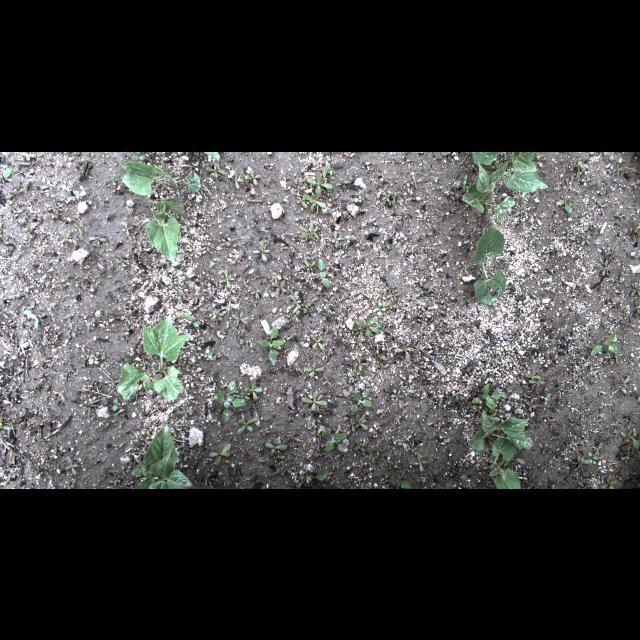crop: (116, 316, 192, 399), (134, 424, 194, 488), (461, 158, 515, 222), (472, 152, 548, 192), (472, 224, 508, 306), (120, 160, 200, 196), (145, 195, 187, 261), (466, 412, 532, 450), (482, 429, 520, 488), (202, 151, 220, 161)
weed: (215, 378, 248, 422), (256, 326, 286, 366), (471, 382, 507, 410), (320, 424, 348, 452), (352, 316, 381, 342), (590, 330, 620, 354), (294, 470, 328, 488), (300, 391, 328, 412), (208, 443, 232, 465), (244, 376, 264, 402), (306, 174, 332, 194), (353, 388, 373, 412), (302, 191, 326, 211), (570, 158, 590, 180), (393, 342, 415, 360), (318, 258, 330, 290), (387, 474, 413, 488), (304, 360, 324, 378), (236, 418, 258, 434), (348, 414, 368, 431), (254, 238, 268, 262), (412, 452, 428, 472), (230, 310, 250, 326), (205, 161, 225, 177), (264, 441, 288, 454), (569, 455, 591, 469), (310, 333, 326, 351), (24, 308, 38, 328), (132, 461, 152, 475), (230, 169, 243, 189), (246, 169, 264, 183), (66, 455, 78, 475), (222, 268, 234, 288), (273, 280, 289, 294), (557, 198, 571, 214), (620, 428, 636, 442), (176, 406, 194, 418), (528, 474, 542, 488), (390, 388, 404, 402), (210, 310, 224, 324), (184, 312, 198, 326), (620, 450, 634, 464), (323, 295, 335, 311), (122, 220, 134, 236), (386, 289, 402, 301), (631, 437, 639, 461), (7, 188, 26, 198), (143, 420, 153, 438), (600, 258, 610, 276), (89, 235, 107, 245), (332, 230, 342, 248), (67, 190, 85, 200), (310, 221, 320, 239), (396, 194, 414, 204), (524, 370, 542, 380), (597, 200, 609, 214), (290, 294, 302, 308), (374, 302, 386, 316), (192, 274, 208, 284), (320, 165, 328, 185), (410, 172, 420, 188), (354, 356, 364, 372), (613, 348, 623, 364), (562, 230, 574, 243), (351, 365, 362, 379), (280, 462, 292, 474), (202, 347, 214, 359), (506, 456, 524, 464), (610, 162, 622, 174), (600, 478, 614, 488), (525, 398, 535, 412), (73, 220, 83, 234), (187, 359, 201, 369), (304, 258, 314, 272), (396, 211, 410, 221), (172, 284, 185, 294), (360, 361, 370, 374), (608, 243, 616, 259), (379, 361, 388, 375), (354, 440, 366, 450), (537, 442, 547, 454), (614, 378, 626, 388), (465, 322, 477, 332), (630, 284, 640, 296), (200, 240, 212, 250), (302, 300, 312, 312), (296, 196, 306, 208), (380, 294, 390, 306), (588, 452, 598, 464), (576, 480, 590, 488), (112, 398, 120, 412), (69, 322, 77, 336), (572, 274, 580, 288), (564, 177, 572, 191), (312, 163, 322, 174), (61, 231, 70, 243), (370, 280, 380, 290), (250, 288, 260, 298), (214, 281, 222, 293), (2, 167, 12, 176), (544, 392, 550, 406), (634, 299, 640, 313), (110, 475, 120, 483), (136, 436, 144, 446), (382, 191, 390, 201), (286, 312, 296, 320), (337, 280, 347, 288), (385, 283, 395, 291), (592, 442, 602, 450), (626, 312, 634, 322), (634, 220, 640, 233), (600, 318, 606, 330), (527, 380, 545, 384), (371, 455, 379, 463), (365, 165, 373, 173), (66, 482, 76, 488), (377, 354, 387, 360), (38, 208, 44, 218), (111, 176, 117, 186), (250, 343, 254, 353), (550, 282, 558, 284)
